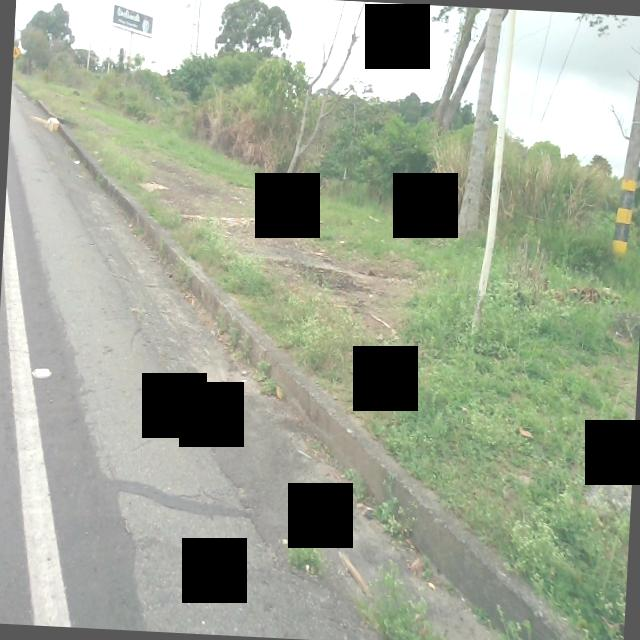DITCH: (0, 28, 640, 640), (0, 80, 634, 640)
